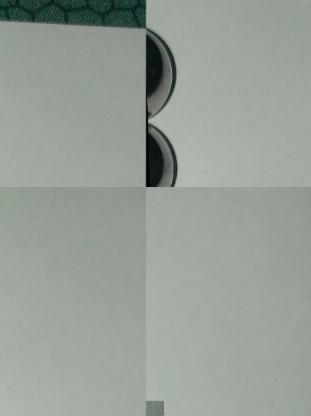ironball: (148, 28, 181, 113), (145, 125, 175, 184)
